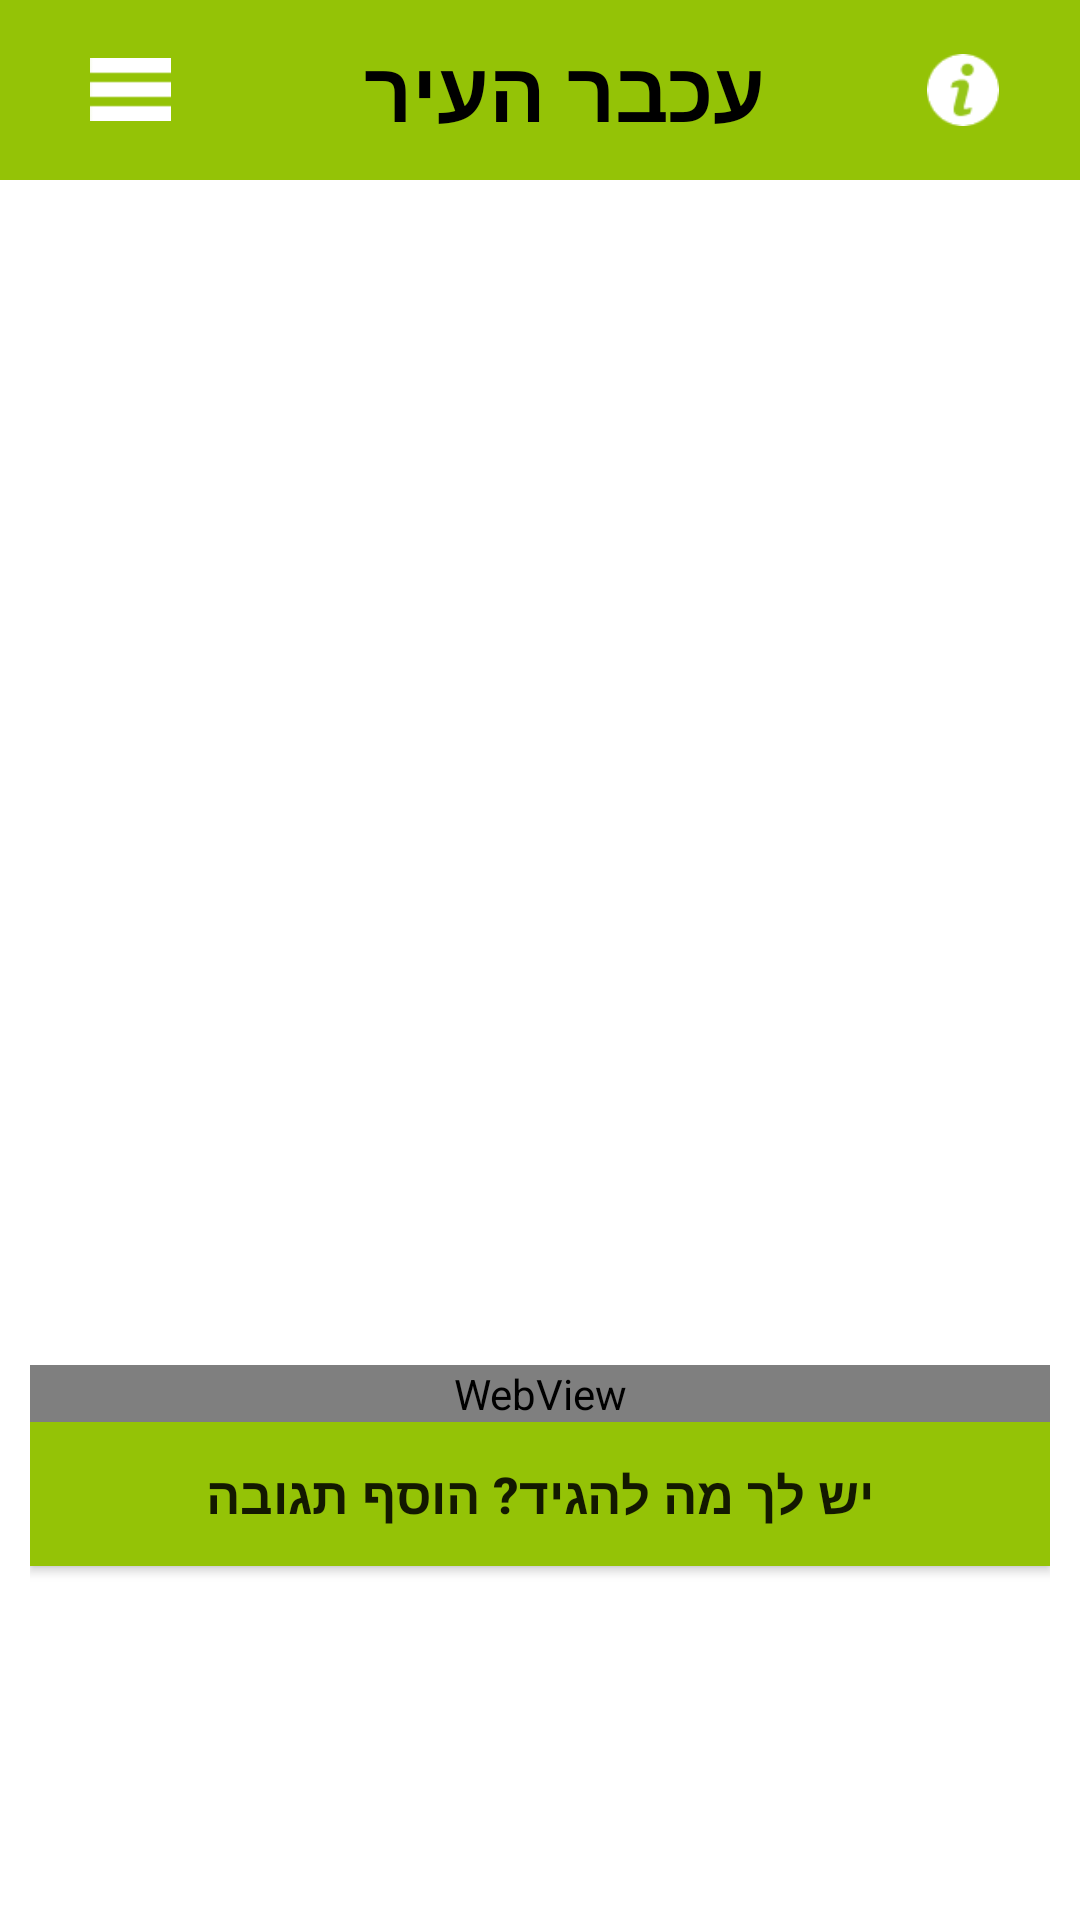

Named icons in this screenshot (1080w x 1920h) and their bounding boxes, (x1, y1, x2, y2):
burger: (90, 58, 171, 121)
info: (927, 54, 999, 126)
